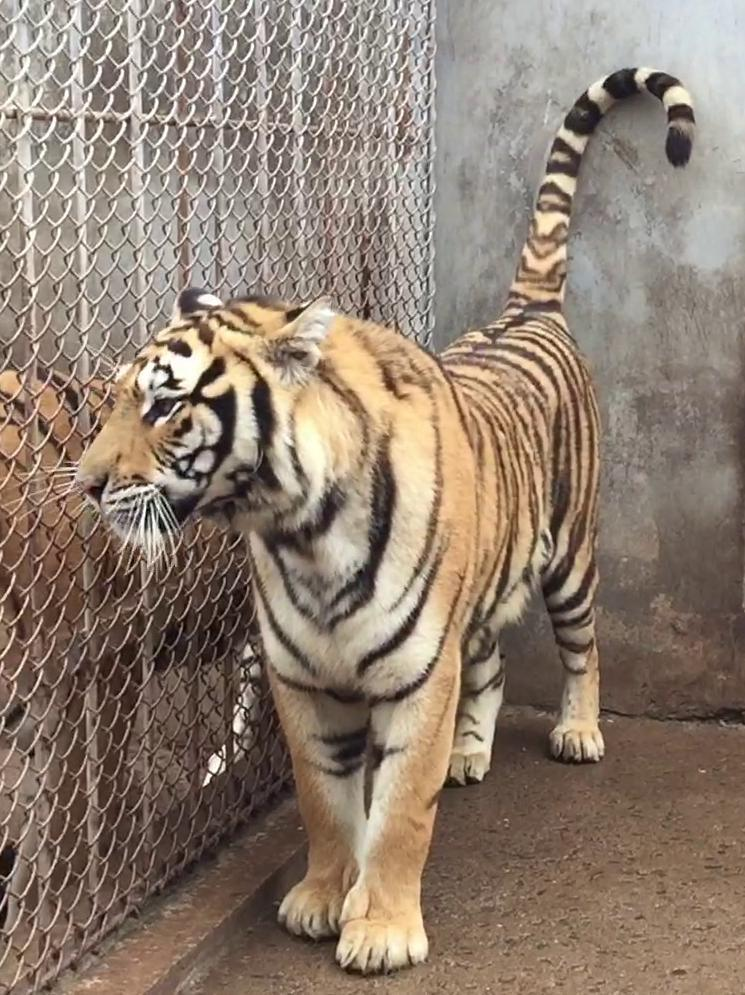tiger: (77, 68, 693, 970)
